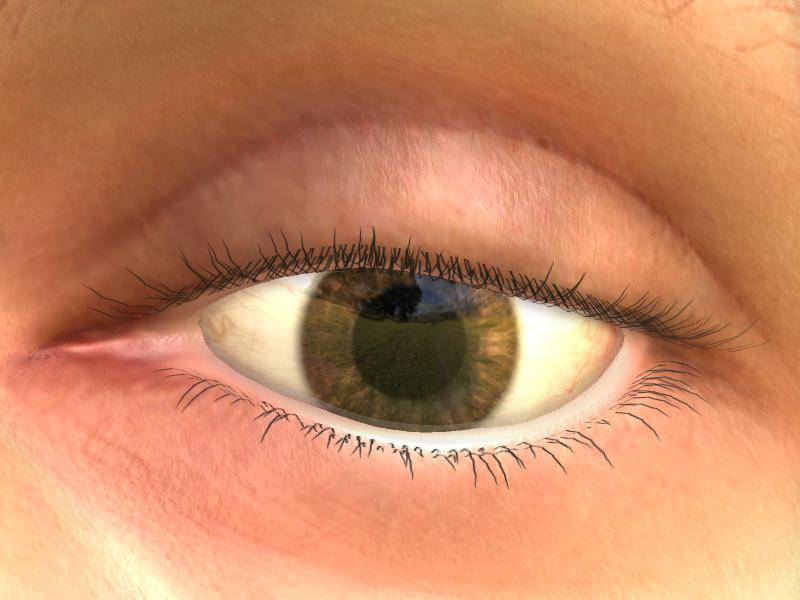eye: (297, 271, 517, 438)
